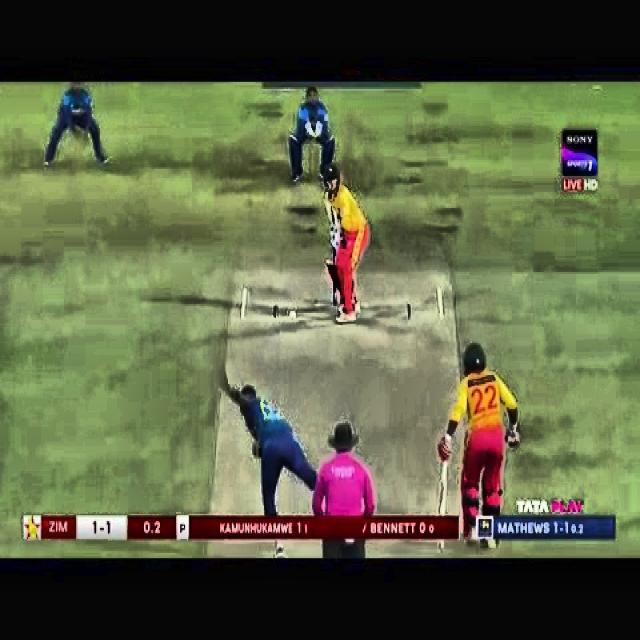Left-stump: (332, 286, 337, 303)
